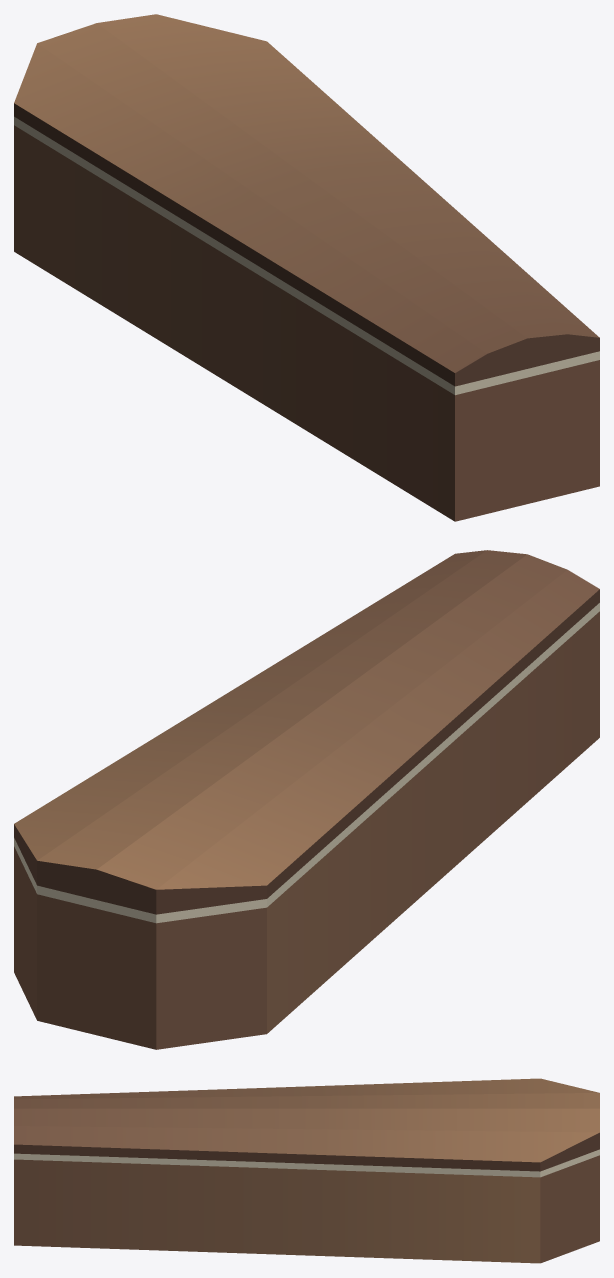
Rendered from Coffin.glb.
3 views of the same model, one above another, from view 1: azimuth 30°, elevation 25°; view 2: azimuth 150°, elevation 25°; view 3: azimuth 270°, elevation 25° (orthographic). The views are drawn at different scales.
Visible parts, largest first — view 1: Coffin; view 2: Coffin; view 3: Coffin.
Part boxes in pixels (bbox=[...]): Coffin: bbox=[14, 14, 599, 521]; Coffin: bbox=[14, 550, 599, 1049]; Coffin: bbox=[14, 1078, 599, 1263].
Size of what is drawn, in the model's own units: 0.7339 by 0.4593 by 2.16.
1 material, 1 textured.
